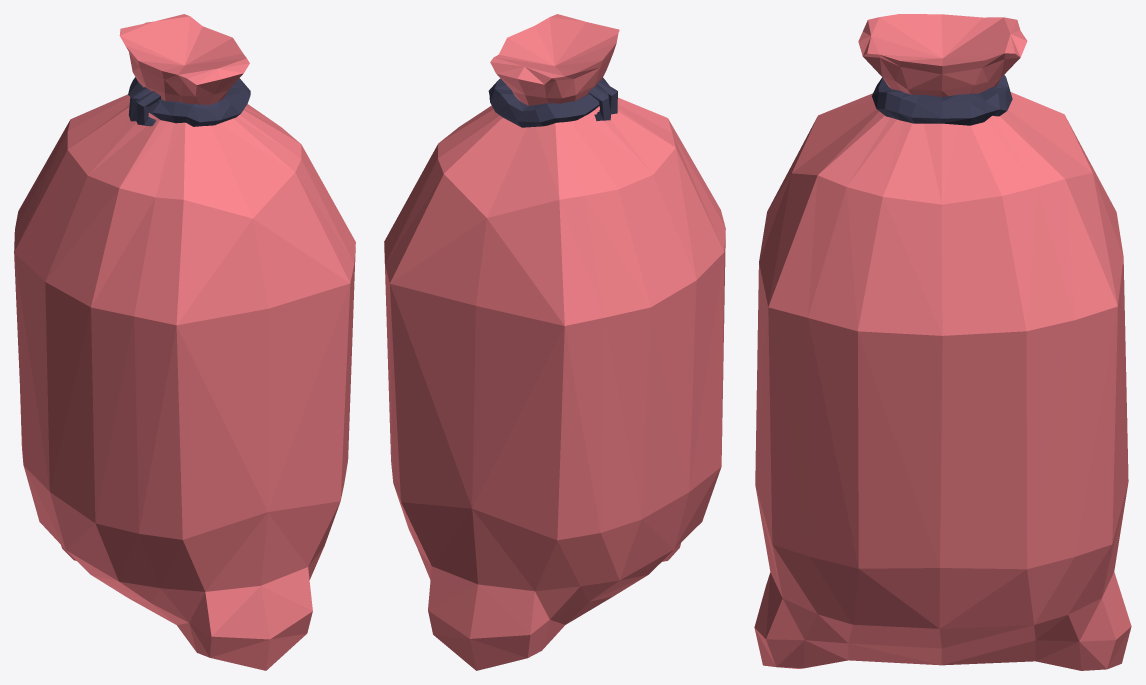
File: SFFA_Coal_Bag_001.fbx
3 views of the same model, side by side, from view 1: azimuth 30°, elevation 25°; view 2: azimuth 150°, elevation 25°; view 3: azimuth 270°, elevation 25° (orthographic). The views are drawn at different scales.
Visible parts, largest first — view 1: SFFA_Coal_Bag_001; view 2: SFFA_Coal_Bag_001; view 3: SFFA_Coal_Bag_001.
Boxes of the visible parts, x1,y1,x2,y2 form: SFFA_Coal_Bag_001: [14, 14, 355, 670]; SFFA_Coal_Bag_001: [384, 14, 725, 670]; SFFA_Coal_Bag_001: [754, 14, 1131, 670].
Bounding box in the file's own units: 29.66 × 57.4 × 30.93.
